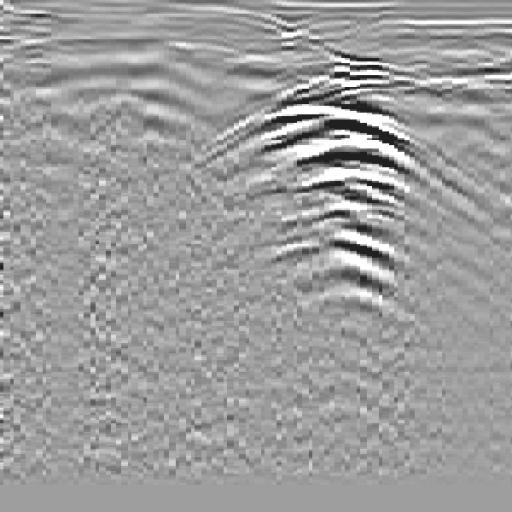metalic: (207, 95, 443, 315)
